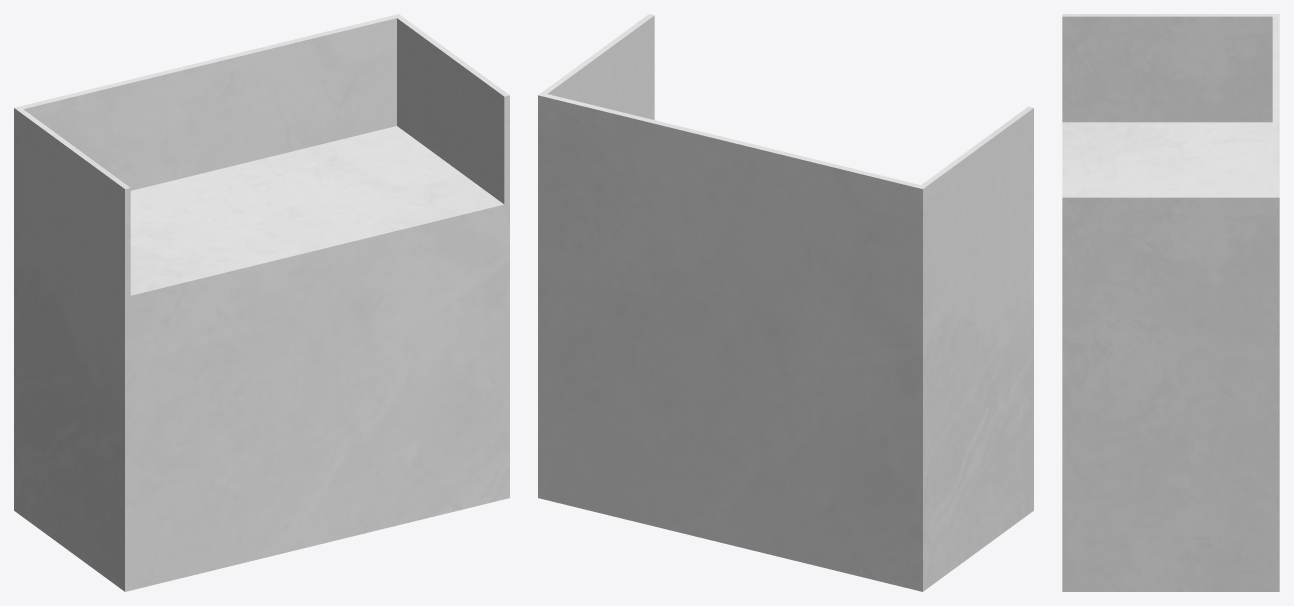
The model's file is Stage 2 textured.fbx.
The picture shows the model from 3 angles, left to right: view 1: azimuth 30°, elevation 25°; view 2: azimuth 150°, elevation 25°; view 3: azimuth 270°, elevation 25°; orthographic projection. The views are drawn at different scales.
Visible parts, largest first — view 1: meja kantor; view 2: meja kantor; view 3: meja kantor.
Boxes of the visible parts, <box> form: meja kantor: <box>14,14,509,591</box>; meja kantor: <box>538,14,1033,591</box>; meja kantor: <box>1062,14,1279,591</box>.
Bounding box in the file's own units: 100 × 100 × 50.
